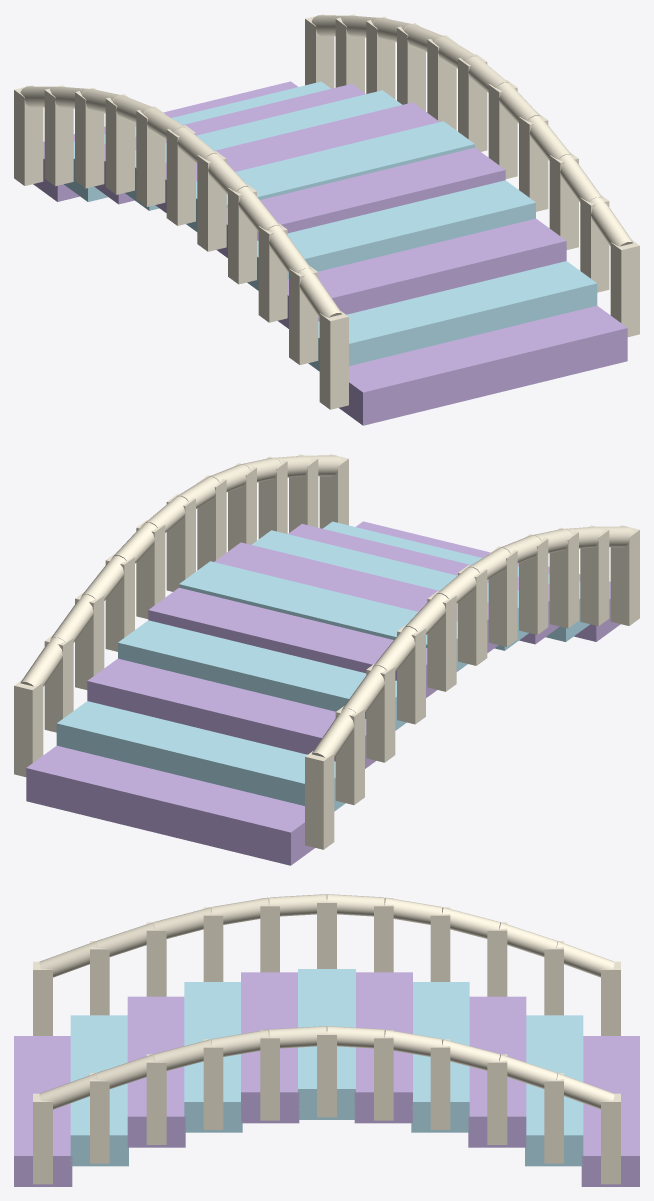
Rendered from st_dream_bridge.glb.
3 renders of one model, top to bottom at view 1: azimuth 30°, elevation 25°; view 2: azimuth 150°, elevation 25°; view 3: azimuth 270°, elevation 25°, orthographic. The views are drawn at different scales.
Parts seen in each view (by area): view 1: Moon_Bridge; view 2: Moon_Bridge; view 3: Moon_Bridge.
Part boxes in pixels (x1,y1,x2,y2): Moon_Bridge: (14, 14, 639, 425); Moon_Bridge: (14, 454, 639, 865); Moon_Bridge: (14, 894, 639, 1186).
Size of the model in its own units: 1.17 by 0.6449 by 2.2.
